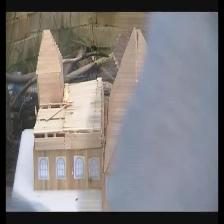smoke: (148, 13, 216, 213), (115, 145, 147, 210)
